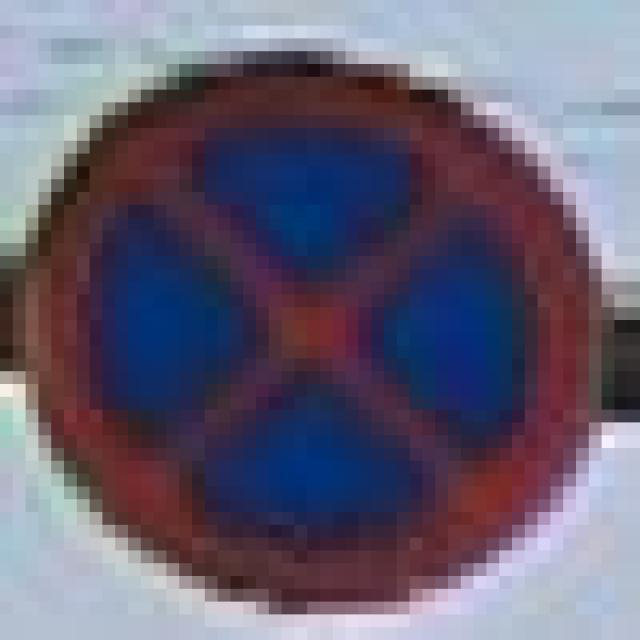no stopping or standing: (18, 23, 620, 605)
